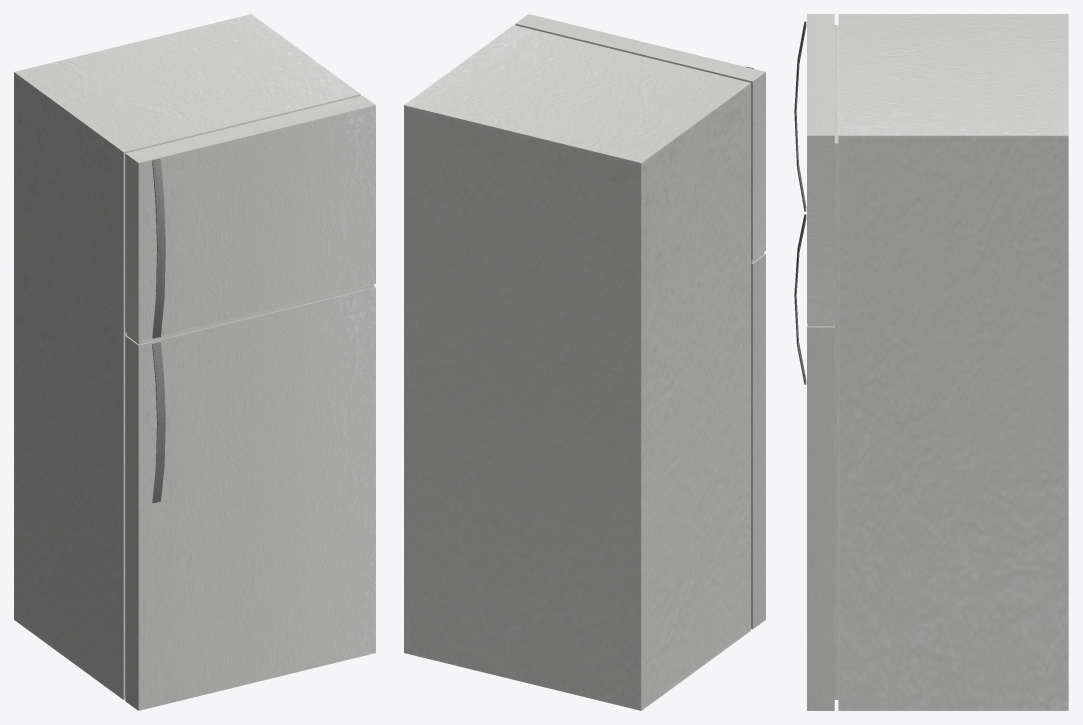
Rendered from Fridge.fbx.
The picture shows the model from 3 angles, left to right: view 1: azimuth 30°, elevation 25°; view 2: azimuth 150°, elevation 25°; view 3: azimuth 270°, elevation 25°; orthographic projection. The views are drawn at different scales.
Visible parts, largest first — view 1: Fridge; view 2: Fridge; view 3: Fridge.
Part boxes in pixels (left/top/right/bottom): Fridge: left=14, top=14, right=375, bottom=710; Fridge: left=404, top=14, right=765, bottom=710; Fridge: left=794, top=14, right=1068, bottom=710.
Bounding box in the file's own units: 4.46 × 9.83 × 4.24.
1 material, 1 textured.
